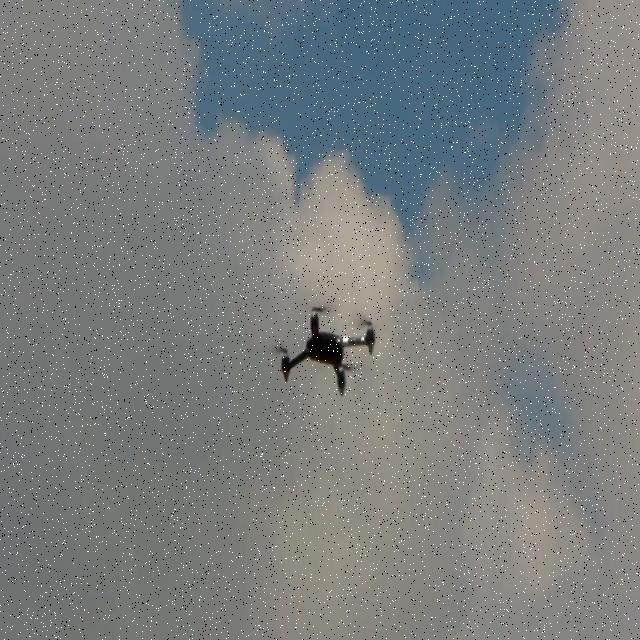UAV: (279, 301, 377, 400)
